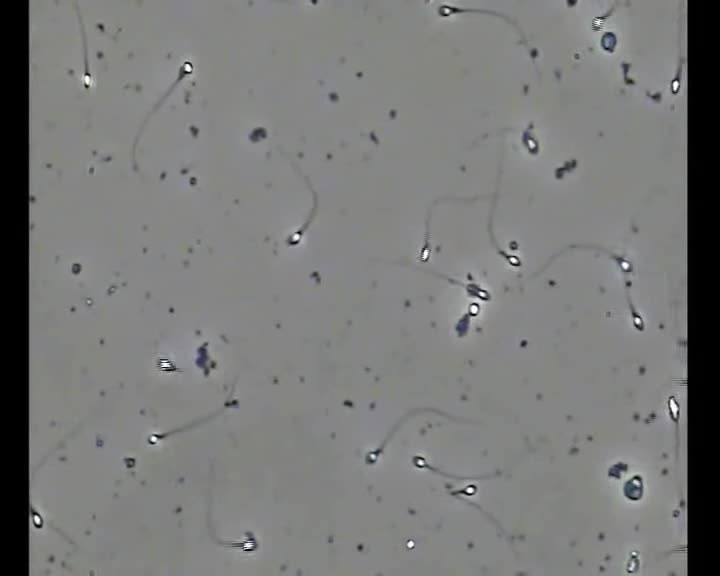spermhead: (623, 475, 643, 500), (522, 127, 538, 154), (466, 283, 489, 300), (241, 532, 257, 552), (601, 31, 616, 52), (667, 395, 679, 421), (625, 551, 639, 573), (437, 4, 459, 17), (615, 256, 632, 272), (157, 357, 176, 371), (502, 253, 521, 266), (632, 311, 644, 330), (31, 509, 43, 528), (287, 230, 302, 245), (365, 449, 380, 464), (670, 72, 680, 94), (419, 243, 430, 262), (460, 483, 477, 495), (412, 455, 427, 468), (180, 61, 193, 75), (591, 16, 604, 30), (147, 433, 162, 444), (82, 72, 92, 88), (468, 302, 479, 316), (224, 398, 238, 407), (406, 539, 415, 549)
